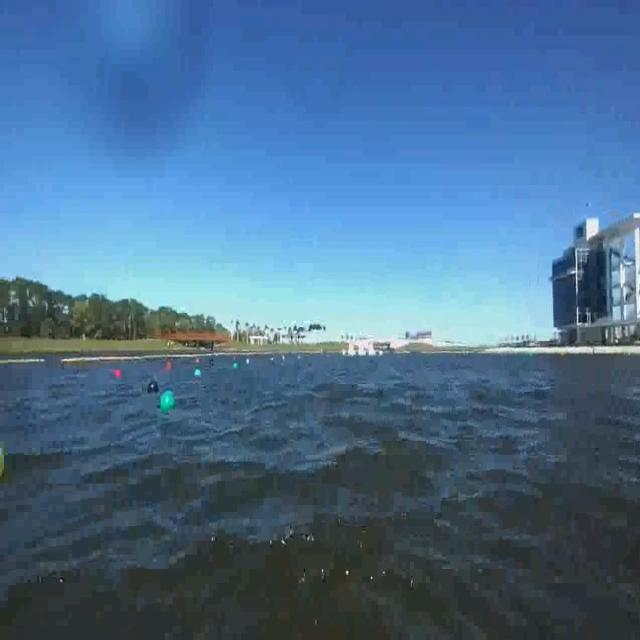black-buoy: (146, 380, 159, 394)
green-buoy: (160, 391, 174, 414)
red-buoy: (116, 368, 125, 378)
yellow-buoy: (0, 449, 6, 472)
